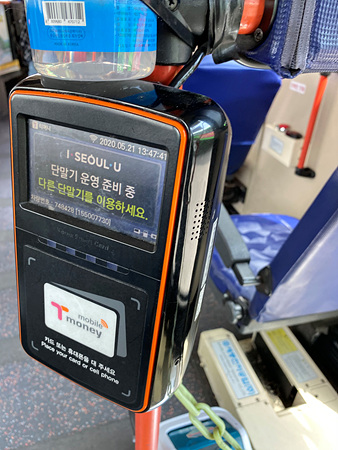terminal: (13, 70, 209, 404)
